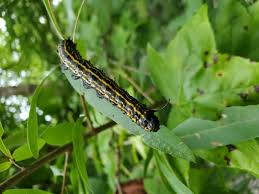Caterpillar: (57, 35, 166, 133)
